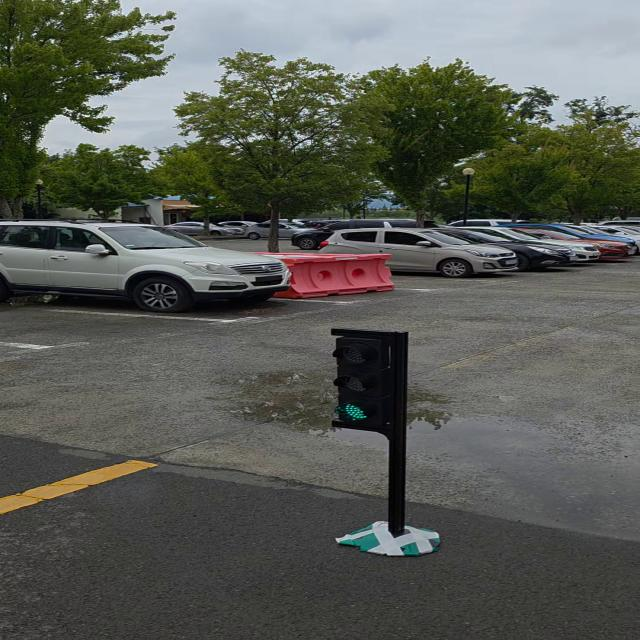green: (328, 329, 410, 433)
